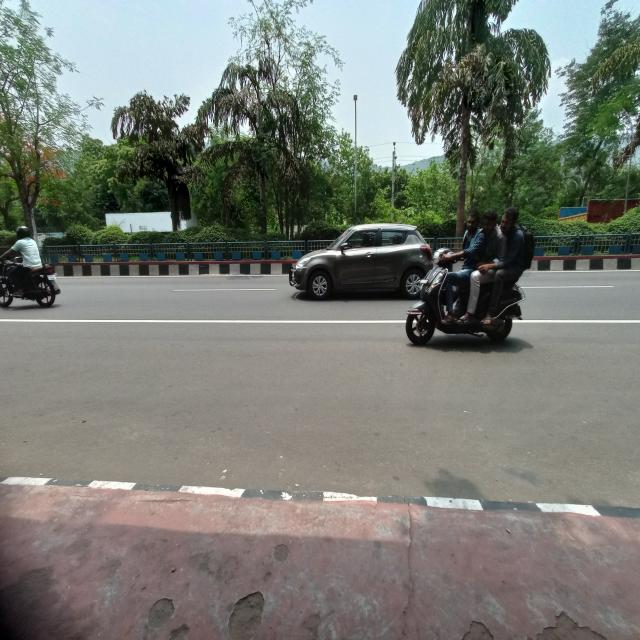bike: (399, 246, 522, 347), (0, 248, 61, 316)
car: (285, 209, 432, 301)
